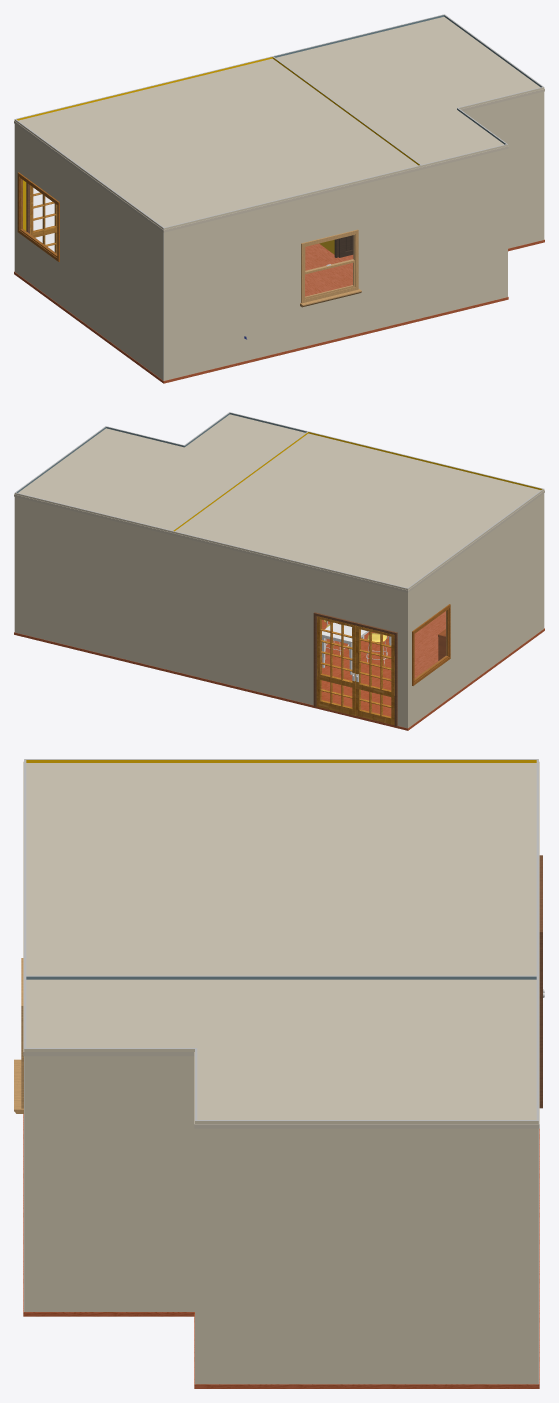
Rendered from ProcTHOR-Train-81.glb.
3 views of the same model, one above another, from view 1: azimuth 30°, elevation 25°; view 2: azimuth 150°, elevation 25°; view 3: azimuth 270°, elevation 25° (orthographic). The views are drawn at different scales.
Parts seen in each view (by area): view 1: Ceiling#room|2|c, WallInside#wall|exterior|3.68|5.52|9.21|5.52, Ceiling#room|3|c, WallInside#wall|exterior|9.21|0.00|9.21|5.52, WallInside#wall|exterior|1.84|5.52|3.68|5.52, WallInside#wall|exterior|0.00|3.68|1.84|3.68, Floor#room|2|f, Window_Hung_48x44, Window_Fixed_60x48, WallInside#wall|2|3.68|0.00|9.21|0.00, Doorway_Door_5a, WallInside#wall|2|3.68|0.00|3.68|5.52 (+2 smaller); view 2: Ceiling#room|2|c, WallInside#wall|exterior|3.68|0.00|9.21|0.00, WallInside#wall|exterior|0.00|0.00|3.68|0.00, Ceiling#room|3|c, WallInside#wall|exterior|9.21|0.00|9.21|5.52, Floor#room|2|f, Doorway_Door_5b, Doorway_Door_5a, Doorway_Double_5, Window_Fixed_60x48, Dining_Table_221_1, WallInside#wall|2|3.68|5.52|9.21|5.52 (+1 smaller); view 3: Ceiling#room|2|c, WallInside#wall|exterior|0.00|0.00|0.00|3.68, Ceiling#room|3|c, WallInside#wall|exterior|1.84|3.68|1.84|5.52, Floor#room|3|f, WallInside#wall|3|3.68|0.00|3.68|5.52, WallInside#wall|2|9.21|0.00|9.21|5.52, WallInside#wall|2|3.68|0.00|3.68|5.52, Doorway_Double_5, Window_Hung_48x44.
Boxes of the visible parts, x1,y1,x2,y2 form: Ceiling#room|2|c: [14, 58, 422, 232]; WallInside#wall|exterior|3.68|5.52|9.21|5.52: [164, 165, 422, 380]; Ceiling#room|3|c: [276, 17, 544, 169]; WallInside#wall|exterior|9.21|0.00|9.21|5.52: [14, 119, 163, 380]; WallInside#wall|exterior|1.84|5.52|3.68|5.52: [421, 144, 507, 317]; WallInside#wall|exterior|0.00|3.68|1.84|3.68: [459, 87, 544, 248]; Floor#room|2|f: [14, 243, 422, 383]; Window_Hung_48x44: [300, 229, 361, 307]; Window_Fixed_60x48: [17, 172, 59, 261]; WallInside#wall|2|3.68|0.00|9.21|0.00: [15, 56, 272, 230]; Doorway_Door_5a: [30, 185, 57, 253]; WallInside#wall|2|3.68|0.00|3.68|5.52: [272, 56, 420, 254]; Ceiling#room|2|c: [171, 433, 544, 592]; WallInside#wall|exterior|3.68|0.00|9.21|0.00: [171, 531, 407, 728]; WallInside#wall|exterior|0.00|0.00|3.68|0.00: [14, 492, 172, 670]; Ceiling#room|3|c: [14, 414, 306, 534]; WallInside#wall|exterior|9.21|0.00|9.21|5.52: [408, 489, 544, 727]; Floor#room|2|f: [171, 611, 544, 730]; Doorway_Door_5b: [316, 616, 355, 715]; Doorway_Door_5a: [356, 625, 394, 725]; Doorway_Double_5: [313, 612, 397, 726]; Window_Fixed_60x48: [412, 604, 450, 685]; Dining_Table_221_1: [322, 622, 391, 674]; WallInside#wall|2|3.68|5.52|9.21|5.52: [308, 431, 543, 489]; Ceiling#room|2|c: [23, 761, 539, 979]; WallInside#wall|exterior|0.00|0.00|0.00|3.68: [195, 1120, 538, 1384]; Ceiling#room|3|c: [23, 979, 539, 1128]; WallInside#wall|exterior|1.84|3.68|1.84|5.52: [24, 1048, 195, 1311]; Floor#room|3|f: [23, 1239, 539, 1388]; WallInside#wall|3|3.68|0.00|3.68|5.52: [26, 976, 538, 979]; WallInside#wall|2|9.21|0.00|9.21|5.52: [26, 759, 538, 762]; WallInside#wall|2|3.68|0.00|3.68|5.52: [24, 975, 538, 976]; Doorway_Double_5: [539, 855, 542, 1108]; Window_Hung_48x44: [14, 958, 23, 1113].
Size of what is drawn, in the model's own units: 9.27 by 3.18 by 5.72.
Materials: 131 (45 with a texture image).
